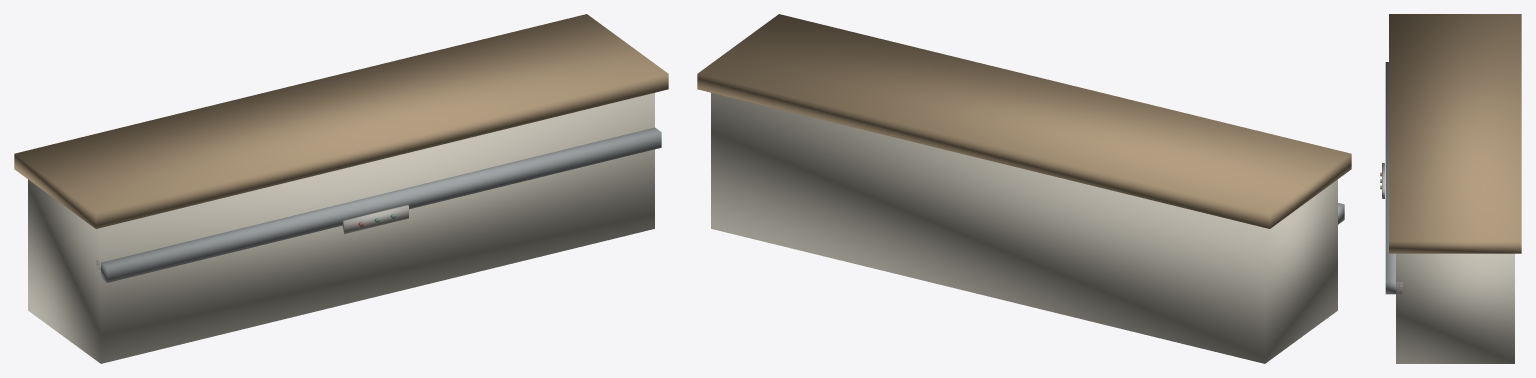
Rendered from diner_counter__wide.glb.
3 views of the same model, side by side, from view 1: azimuth 30°, elevation 25°; view 2: azimuth 150°, elevation 25°; view 3: azimuth 270°, elevation 25° (orthographic). The views are drawn at different scales.
Visible parts, largest first — view 1: world; view 2: world; view 3: world.
Part boxes in pixels (x1,y1,x2,y2): world: (14,14,668,363); world: (697,14,1351,363); world: (1380,14,1521,363).
Bounding box in the file's own units: 3.08 × 0.8 × 0.811.
